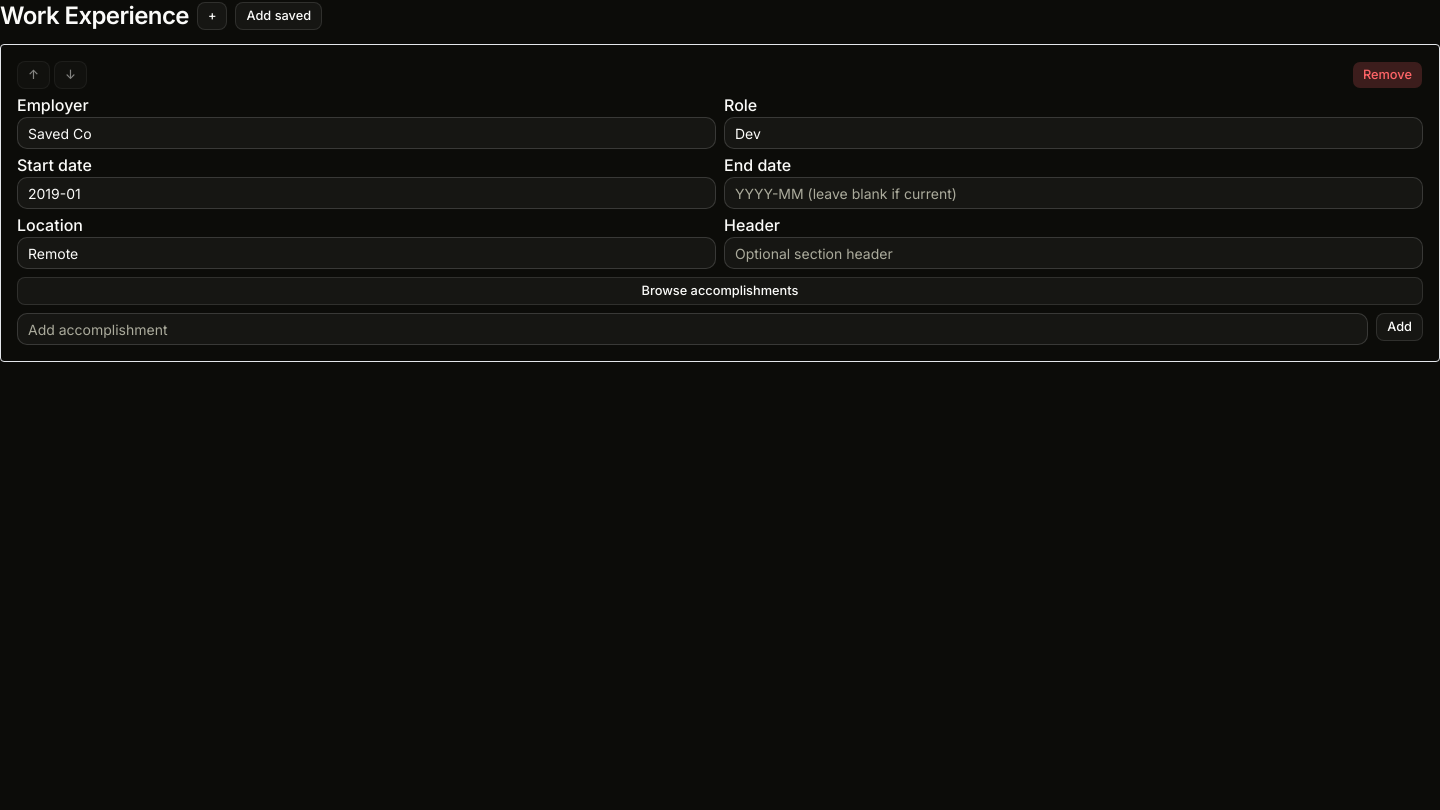
Test: WorkExperienceSection › filters already-linked WEs from the lookup results
Click the button with test id "we-lookup-trigger": (279, 16) x1=235 y1=2 x2=322 y2=30
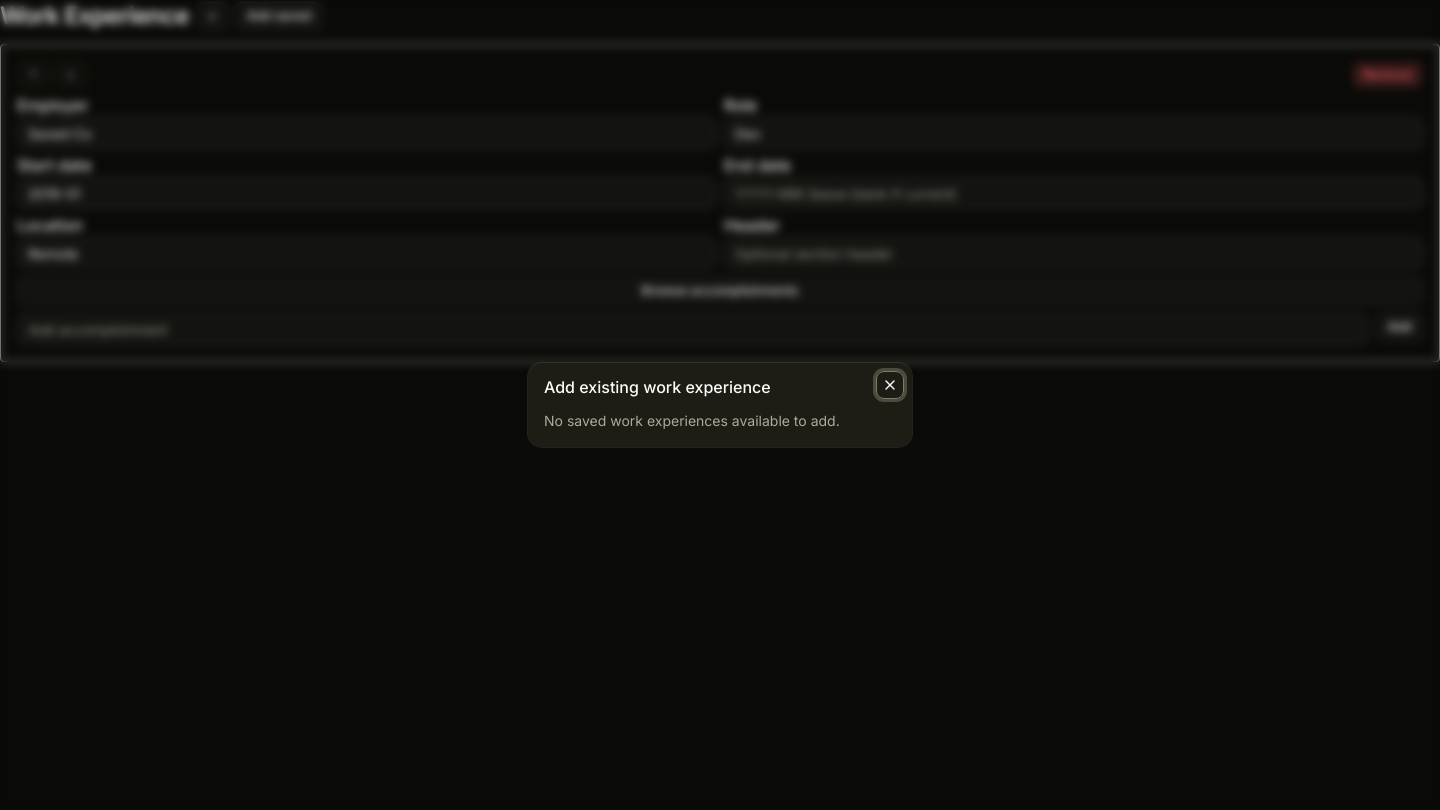
Check: the text "No saved work experiences available to add." is shown, box x1=544 y1=412 x2=840 y2=429
